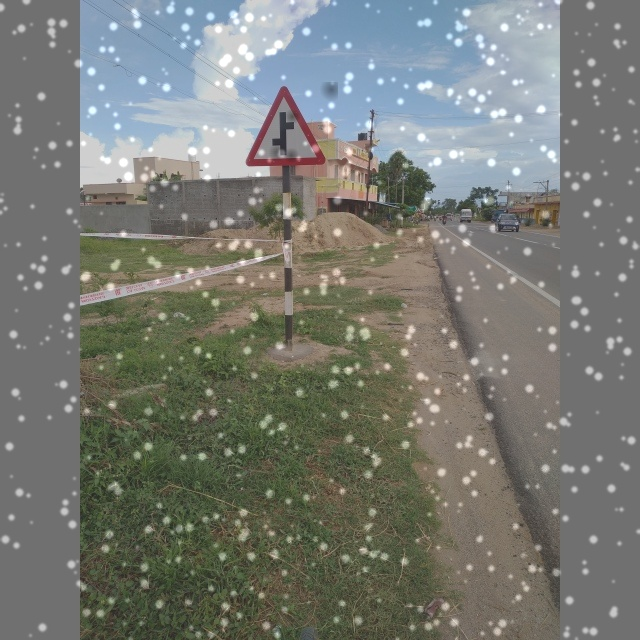Staggered_Intersection: (243, 82, 338, 176)
